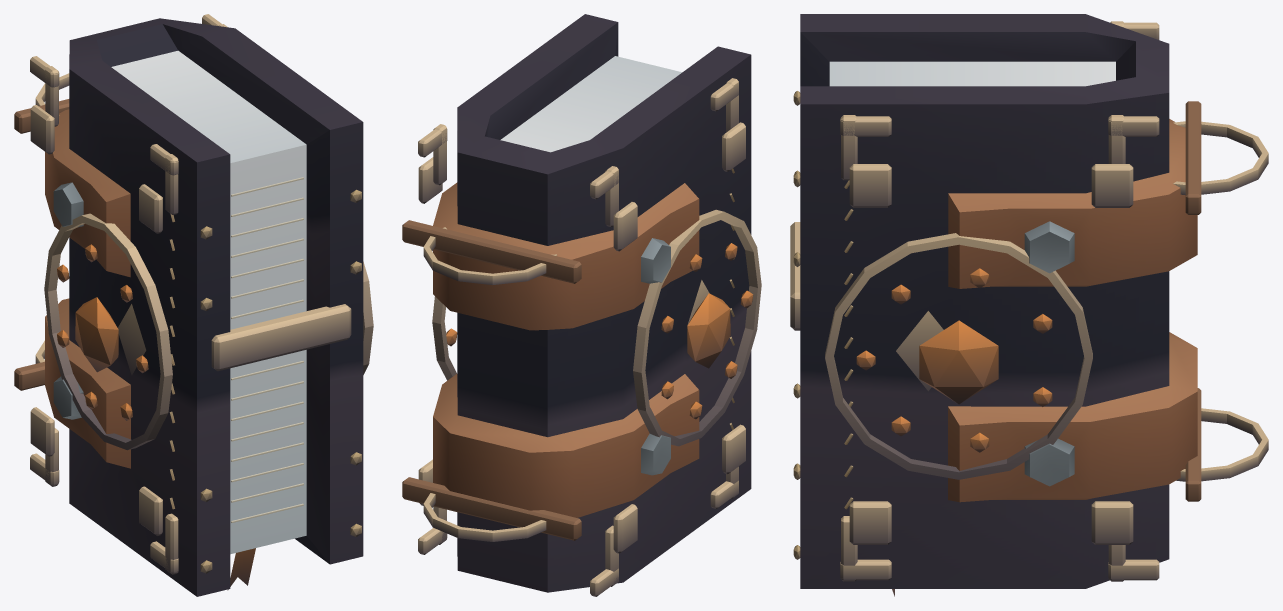
Rendered from grimorio_runico_t5.glb.
3 views of the same model, side by side, from view 1: azimuth 30°, elevation 25°; view 2: azimuth 150°, elevation 25°; view 3: azimuth 270°, elevation 25° (orthographic). The views are drawn at different scales.
Parts seen in each view (by area): view 1: grimorio_runico_t5_finished; view 2: grimorio_runico_t5_finished; view 3: grimorio_runico_t5_finished.
Part boxes in pixels (box(x1,y1,x2,y2)): grimorio_runico_t5_finished: box(14, 14, 373, 596); grimorio_runico_t5_finished: box(402, 14, 761, 596); grimorio_runico_t5_finished: box(790, 14, 1268, 596).
Size of the model in its own units: 0.3458 by 0.6315 by 0.5145.
Materials: 2 (2 with a texture image).
